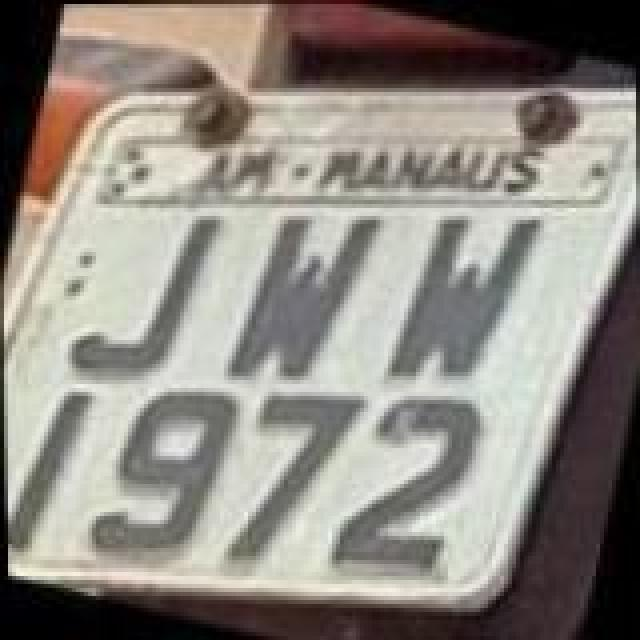1: (4, 374, 100, 562)
2: (318, 374, 490, 594)
7: (214, 370, 370, 586)
9: (78, 366, 250, 582)
J: (58, 184, 234, 400)
W: (220, 188, 392, 408), (382, 186, 550, 406)
